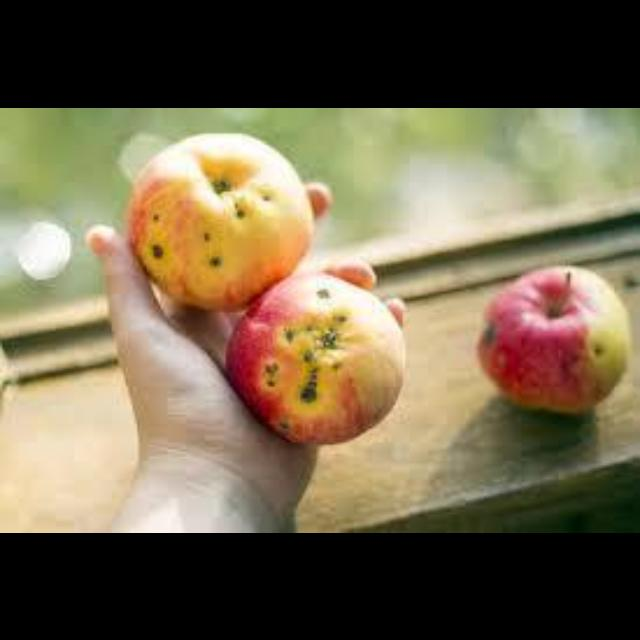apple: (126, 133, 312, 307), (228, 272, 403, 442), (477, 265, 628, 412)
pest: (300, 368, 317, 400), (480, 320, 498, 345), (281, 324, 298, 347), (149, 241, 166, 263), (204, 253, 223, 267), (264, 360, 280, 376), (234, 206, 246, 221), (317, 287, 329, 302)
